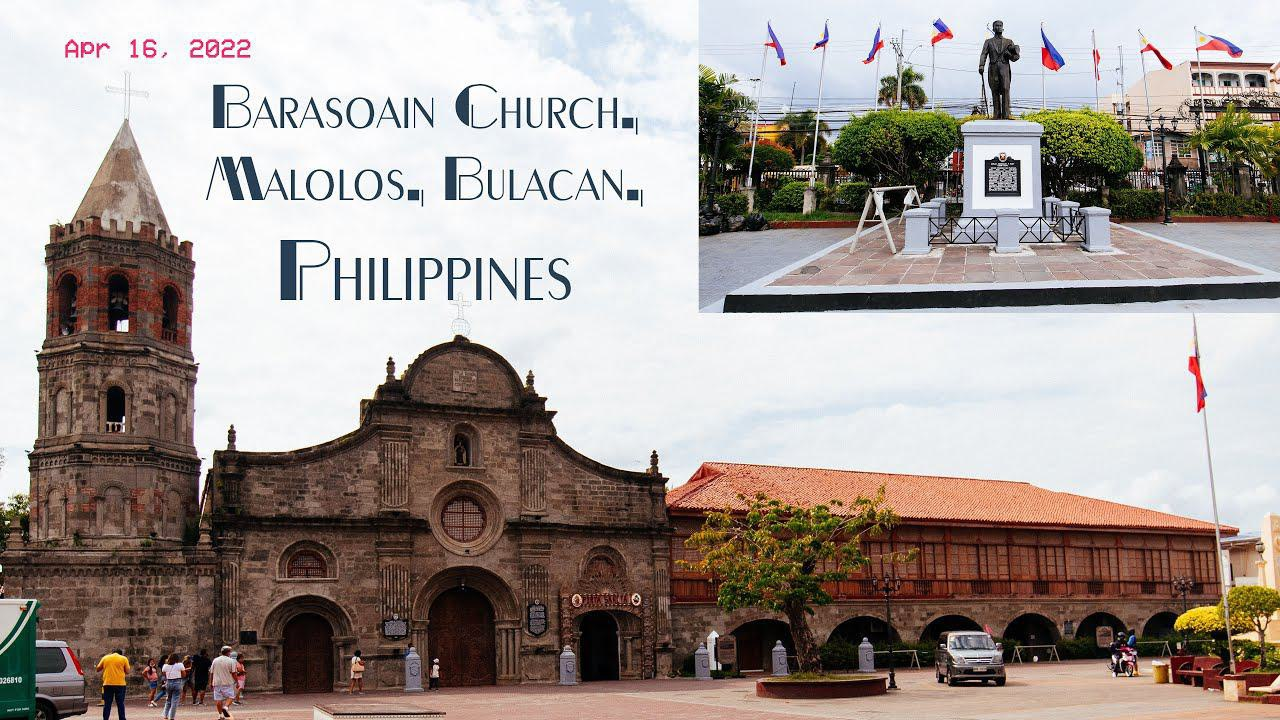barasoain_church_malolos_bulacan: (1, 61, 674, 689)
